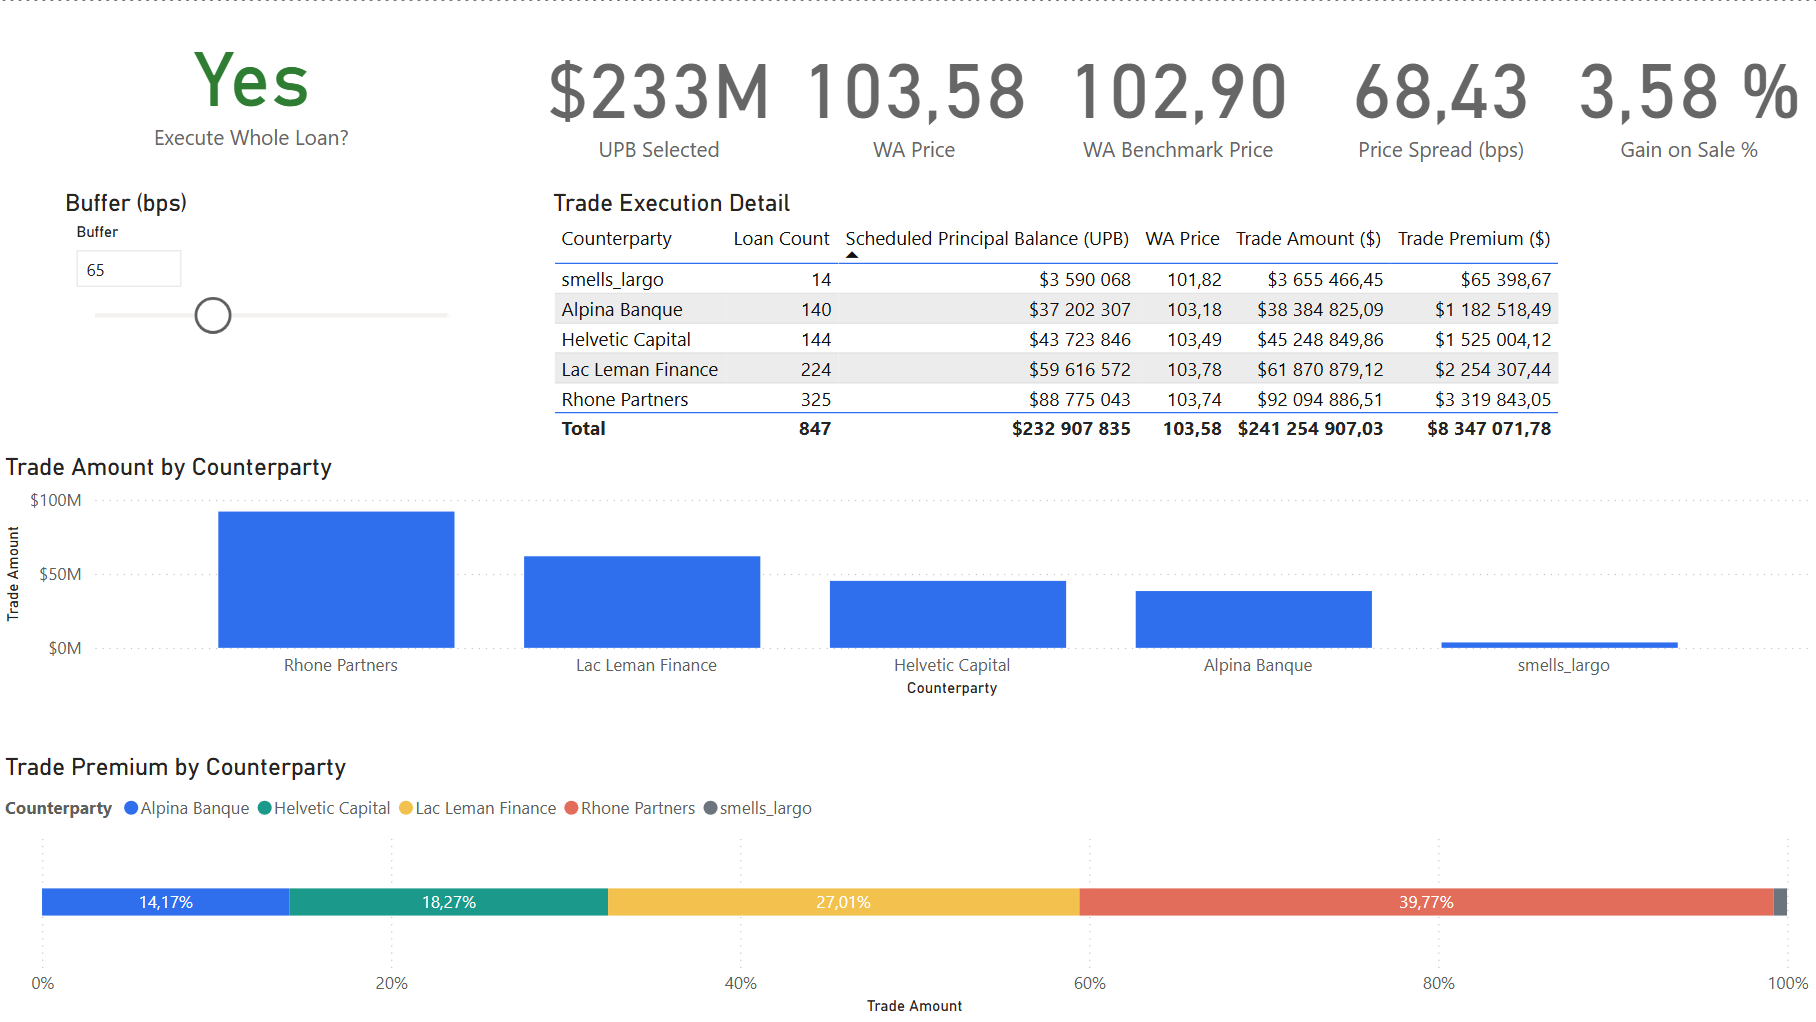

The page's visual inventory and layout, read from the dashboard file:
{"tool":"powerbi","page":{"name":"Trade Execution","canvas":[1280,720],"ordinal":3},"visuals":[{"type":"tableEx","title":"Trade Execution Detail","fields":{"Values":["loan_data.Counterparty","loan_data.loan_id","loan_balance.Scheduled Principal Balance","loan_data.WA Price","loan_data.Trade Amount","loan_data.Trade Premium"]},"box":[386.3,132.5,890.9,186.1],"z":0},{"type":"clusteredColumnChart","title":"Trade Amount by Counterparty","fields":{"Category":["loan_data.Counterparty"],"Y":["loan_data.Trade Amount"]},"box":[0,318.6,1280,176.2],"z":1000},{"type":"hundredPercentStackedBarChart","title":"Trade Premium by Counterparty","fields":{"Y":["loan_data.Trade Premium"],"Series":["loan_data.Counterparty"]},"box":[0,530,1280,188.9],"z":2000},{"type":"card","fields":{"Values":["Portfolio_Loans.UPB Selected"]},"box":[377.8,0,176.2,132.5],"z":3000},{"type":"card","fields":{"Values":["Portfolio_Loans.WA Price"]},"box":[554,0,183.3,132.5],"z":4000},{"type":"card","fields":{"Values":["Portfolio_Loans.WA Benchmark Price"]},"box":[737.3,0,188.9,132.5],"z":5000},{"type":"card","fields":{"Values":["Portfolio_Loans.Price Spread (bps)"]},"box":[926.2,0,179,132.5],"z":6000},{"type":"card","fields":{"Values":["Portfolio_Loans.Gain on Sale %"]},"box":[1105.2,0,170.6,132.5],"z":7000},{"type":"slicer","title":"Buffer (bps)","fields":{"Values":["Buffer.Buffer"]},"box":[41.6,132,297.4,142.8],"z":8000},{"type":"card","fields":{"Values":["Portfolio_Loans.Execute Whole Loan?"]},"box":[73.3,0,210,115.6],"z":9000}]}

Visuals, with their boxes in screenshot pixels (x1, y1, x2, y2), scaled from the page's 1280x720 canvas onto the 1816x1022 screenshot:
"Trade Execution Detail" tableEx: {"left": 548, "top": 188, "right": 1812, "bottom": 452}
"Trade Amount by Counterparty" clusteredColumnChart: {"left": 0, "top": 452, "right": 1815, "bottom": 702}
"Trade Premium by Counterparty" hundredPercentStackedBarChart: {"left": 0, "top": 752, "right": 1815, "bottom": 1020}
card - Portfolio_Loans.UPB Selected: {"left": 536, "top": 0, "right": 786, "bottom": 188}
card - Portfolio_Loans.WA Price: {"left": 786, "top": 0, "right": 1046, "bottom": 188}
card - Portfolio_Loans.WA Benchmark Price: {"left": 1046, "top": 0, "right": 1314, "bottom": 188}
card - Portfolio_Loans.Price Spread (bps): {"left": 1314, "top": 0, "right": 1568, "bottom": 188}
card - Portfolio_Loans.Gain on Sale %: {"left": 1568, "top": 0, "right": 1810, "bottom": 188}
"Buffer (bps)" slicer: {"left": 59, "top": 187, "right": 481, "bottom": 390}
card - Portfolio_Loans.Execute Whole Loan?: {"left": 104, "top": 0, "right": 402, "bottom": 164}
